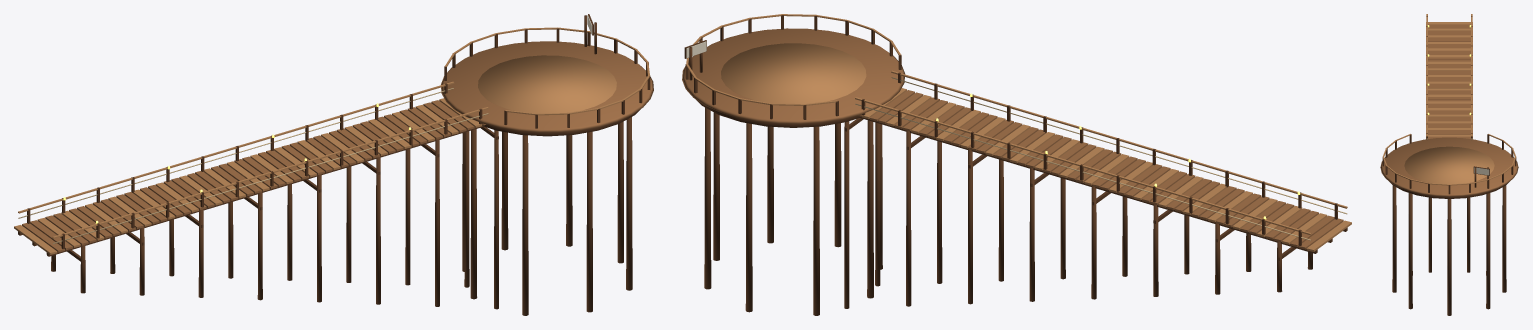
File: cau_go_bridge.glb
3 views of the same model, side by side, from view 1: azimuth 30°, elevation 25°; view 2: azimuth 150°, elevation 25°; view 3: azimuth 270°, elevation 25° (orthographic). The views are drawn at different scales.
Parts seen in each view (by area): view 1: CauGoSanMay; view 2: CauGoSanMay; view 3: CauGoSanMay.
Boxes of the visible parts, <box> form: CauGoSanMay: <box>14,14,653,315</box>; CauGoSanMay: <box>682,14,1351,315</box>; CauGoSanMay: <box>1380,14,1518,315</box>.
Bounding box in the file's own units: 46.31 × 16.53 × 14.1.
